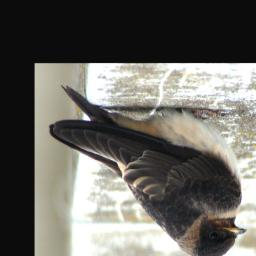Swallow: (48, 82, 249, 256)
